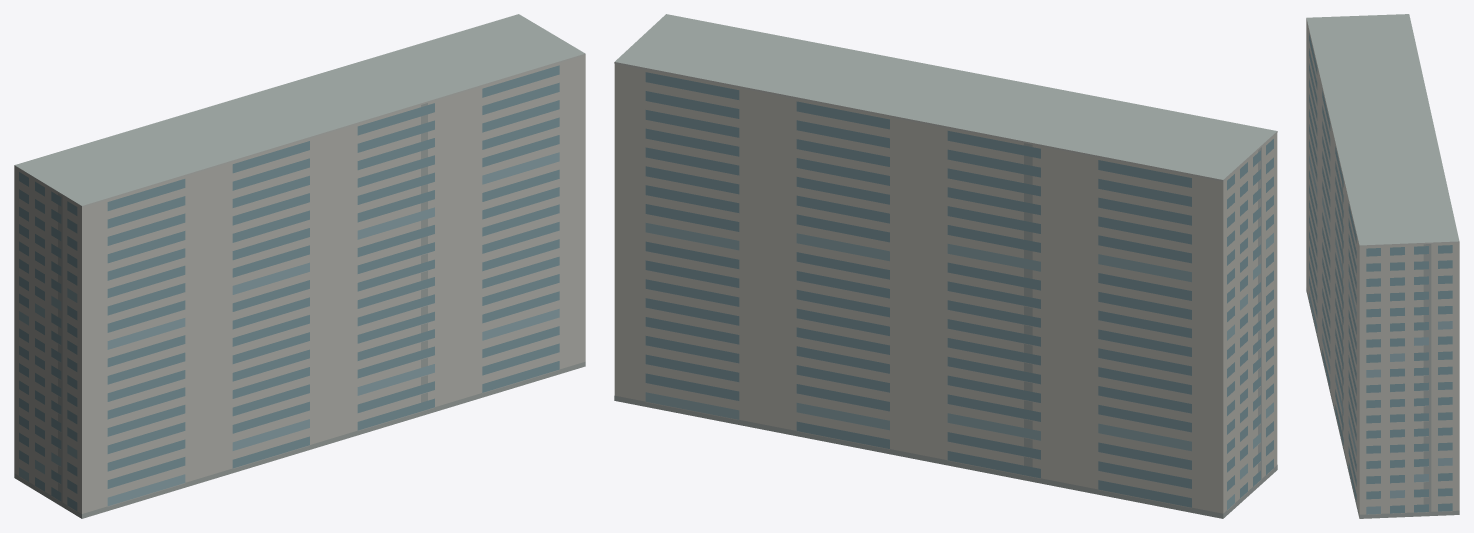
Rendered from residential-7d314815-f384-4e61-9ecc-ffac57f86cb5.glb.
3 views of the same model, side by side, from view 1: azimuth 30°, elevation 25°; view 2: azimuth 150°, elevation 25°; view 3: azimuth 270°, elevation 25° (orthographic). The views are drawn at different scales.
Parts seen in each view (by area): view 1: residential-7d314815-f384-4e61-9ecc-ffac57f86cb5.tmp; view 2: residential-7d314815-f384-4e61-9ecc-ffac57f86cb5.tmp; view 3: residential-7d314815-f384-4e61-9ecc-ffac57f86cb5.tmp.
Boxes of the visible parts, x1=… form: residential-7d314815-f384-4e61-9ecc-ffac57f86cb5.tmp: x1=14, y1=14, x2=585, y2=518; residential-7d314815-f384-4e61-9ecc-ffac57f86cb5.tmp: x1=614, y1=14, x2=1277, y2=518; residential-7d314815-f384-4e61-9ecc-ffac57f86cb5.tmp: x1=1306, y1=14, x2=1459, y2=518.
Size of the model in its own units: 87.12 by 48 by 24.36.
